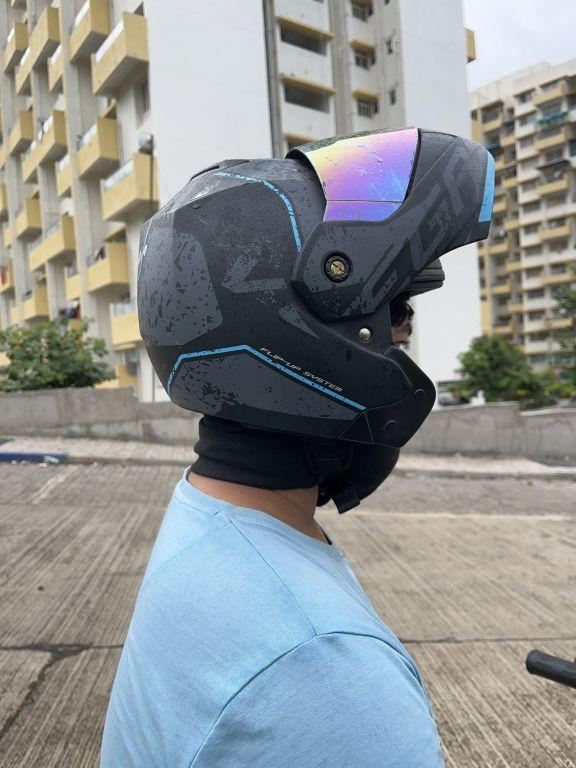helmet: (125, 119, 509, 534)
